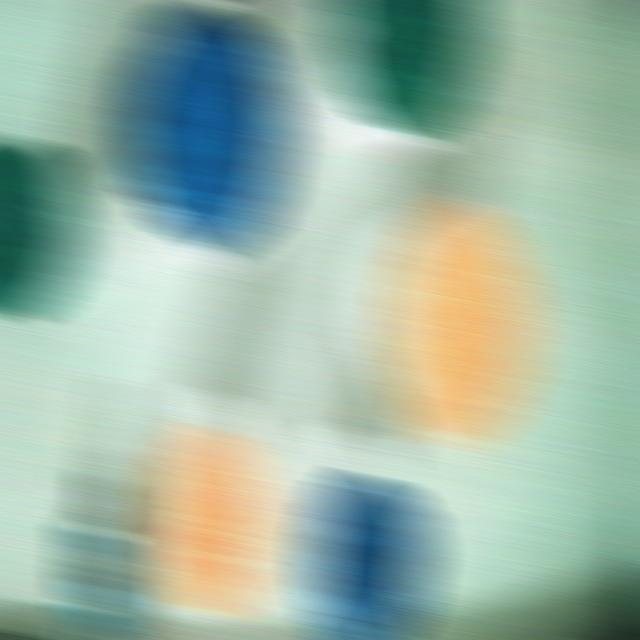blue: (122, 4, 291, 257), (306, 470, 429, 639)
green: (331, 0, 482, 131), (0, 135, 80, 316), (0, 135, 75, 316)
yellow: (383, 199, 532, 448), (143, 430, 274, 615)
